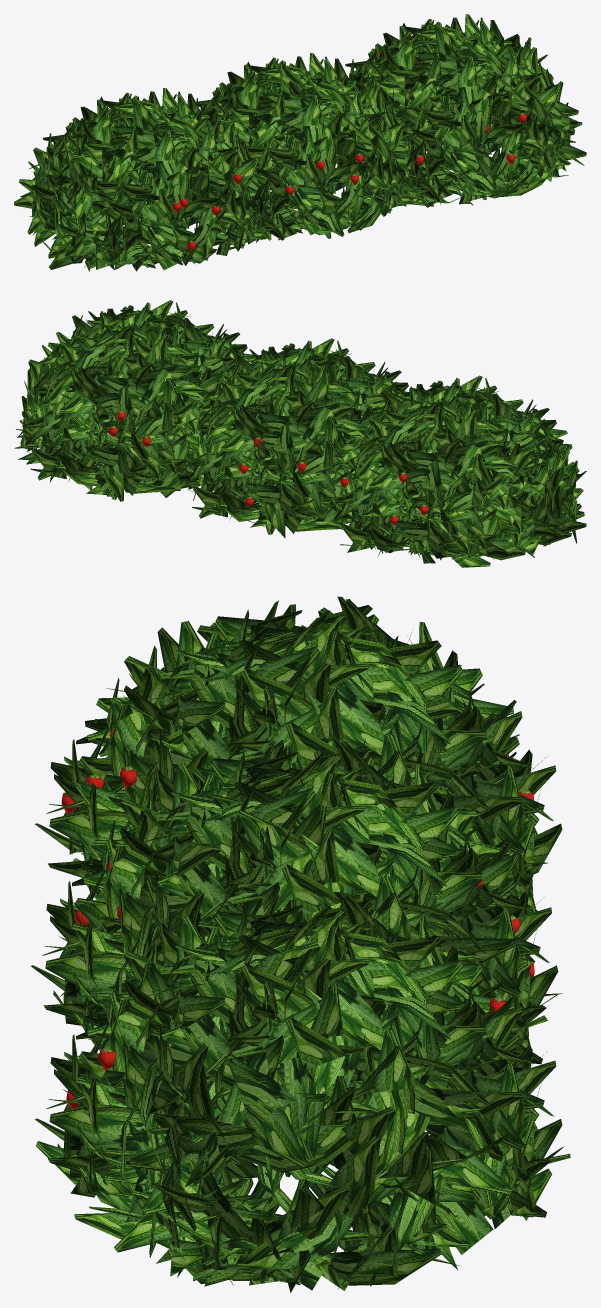
The model's file is arbufres.obj.
3 views of the same model, one above another, from view 1: azimuth 30°, elevation 25°; view 2: azimuth 150°, elevation 25°; view 3: azimuth 270°, elevation 25° (orthographic). The views are drawn at different scales.
Visible parts, largest first — view 1: Strawberry-L3.001; view 2: Strawberry-L3.001; view 3: Strawberry-L3.001.
Part boxes in pixels (left/top/right/bottom): Strawberry-L3.001: left=14, top=14, right=586, bottom=271; Strawberry-L3.001: left=14, top=300, right=586, bottom=567; Strawberry-L3.001: left=31, top=596, right=570, bottom=1292.
Bounding box in the file's own units: 2.89 × 0.7607 × 1.27.
